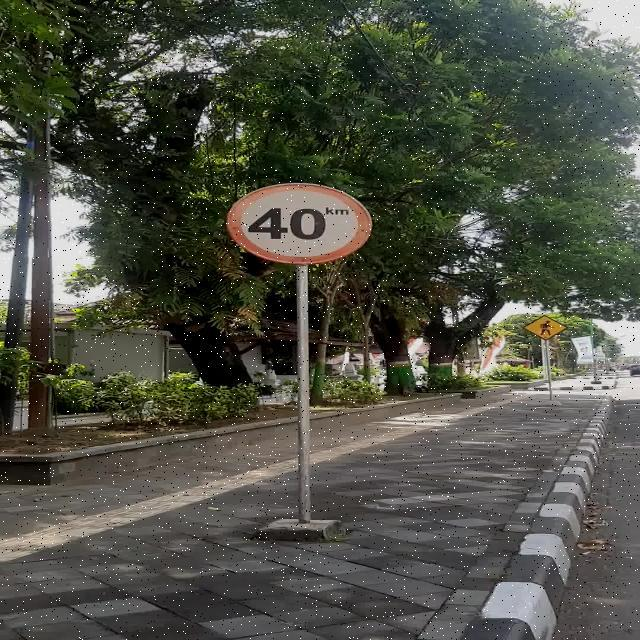Kecepatan Maks. 40 km: (225, 182, 374, 265)
